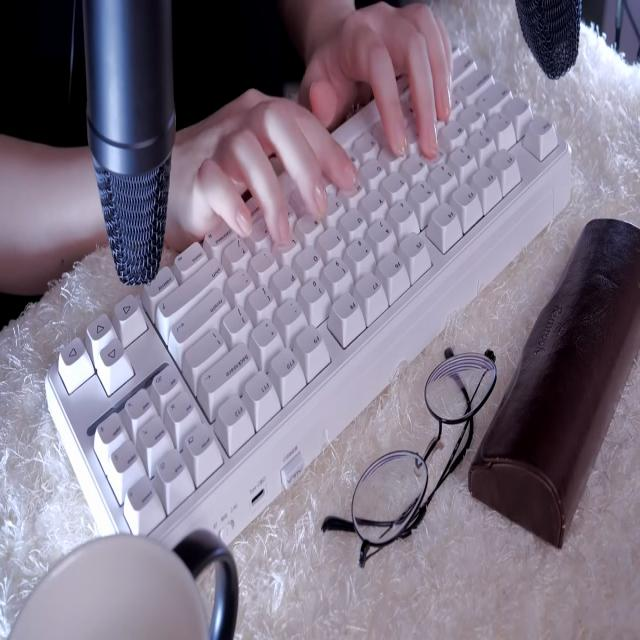keyboard-with-hands: (44, 39, 572, 542)
